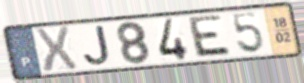4: (157, 17, 191, 63)
5: (230, 10, 267, 55)
8: (115, 20, 152, 66)
E: (188, 13, 234, 59)
J: (82, 24, 112, 68)
X: (33, 25, 80, 75)
